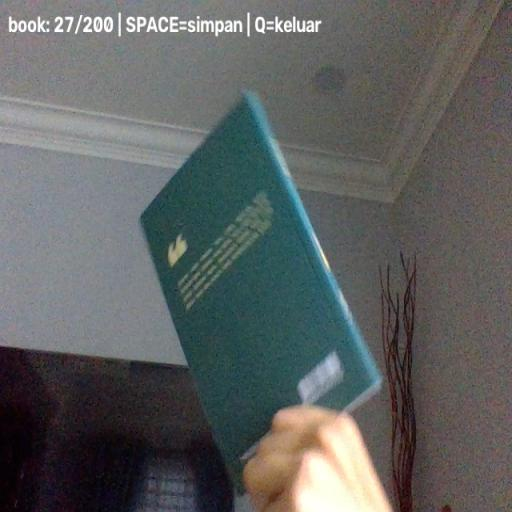Book: (140, 90, 382, 496)
